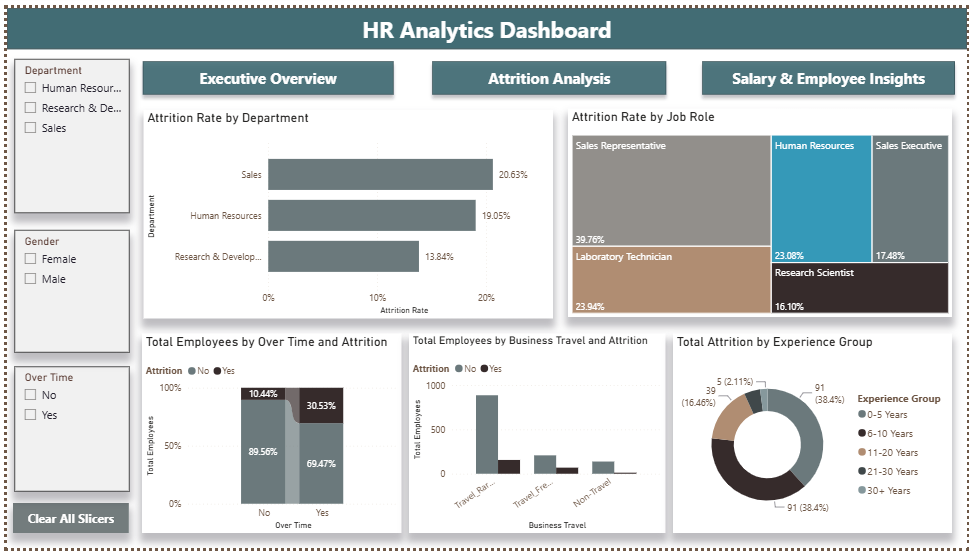

What the dashboard file says about the page in this screenshot:
{"tool":"powerbi","page":{"name":"Attrition Analysis","canvas":[1280,720],"ordinal":1},"visuals":[{"type":"shape","box":[0,0,1280,55],"z":0},{"type":"actionButton","box":[557.5,62.5,330,62.5],"z":1000},{"type":"actionButton","box":[172.5,62.5,352.5,62.5],"z":2000},{"type":"actionButton","box":[917.5,62.5,355,62.5],"z":3000},{"type":"actionButton","box":[8.9,660,154.4,40],"z":4000},{"type":"clusteredBarChart","title":"Attrition Rate by Department","fields":{"Y":["public hr_data.Attrition Rate"],"Category":["public hr_data.department"]},"box":[182,136,546,278],"z":5000},{"type":"treemap","title":"Attrition Rate by Job Role","fields":{"Group":["public hr_data.job_role"],"Values":["public hr_data.Attrition Rate"]},"box":[748,134,512,278],"z":6000},{"type":"hundredPercentStackedColumnChart","title":"Total Employees by Over Time and Attrition","fields":{"Y":["public hr_data.Total Employees"],"Category":["public hr_data.over_time"],"Series":["public hr_data.attrition"]},"box":[180,434,346,266],"z":7000},{"type":"clusteredColumnChart","title":"Total Employees by Business Travel and Attrition","fields":{"Category":["public hr_data.business_travel"],"Y":["public hr_data.Total Employees"],"Series":["public hr_data.attrition"]},"box":[536,434,342,266],"z":8000},{"type":"donutChart","fields":{"Y":["public hr_data.Total Attrition"],"Category":["public hr_data.Experience Group"]},"box":[888,434,372,266],"z":9000},{"type":"slicer","fields":{"Values":["public hr_data.department"]},"box":[10,68.3,153.3,205],"z":10000},{"type":"slicer","fields":{"Values":["public hr_data.over_time"]},"box":[10,478.3,153.3,166.7],"z":11000},{"type":"slicer","fields":{"Values":["public hr_data.gender"]},"box":[10,295,153.3,163.3],"z":12000}]}

Visuals, with their boxes in screenshot pixels (x1, y1, x2, y2), scaled from the page's 1280x720 canvas onto the 970x555 screenshot:
shape: detection(0, 0, 969, 42)
actionButton: detection(422, 48, 673, 96)
actionButton: detection(131, 48, 398, 96)
actionButton: detection(695, 48, 964, 96)
actionButton: detection(7, 509, 124, 540)
"Attrition Rate by Department" clusteredBarChart: detection(138, 105, 552, 319)
"Attrition Rate by Job Role" treemap: detection(567, 103, 955, 318)
"Total Employees by Over Time and Attrition" hundredPercentStackedColumnChart: detection(136, 335, 399, 540)
"Total Employees by Business Travel and Attrition" clusteredColumnChart: detection(406, 335, 665, 540)
donutChart - public hr_data.Total Attrition x public hr_data.Experience Group: detection(673, 335, 955, 540)
slicer - public hr_data.department: detection(8, 53, 124, 211)
slicer - public hr_data.over_time: detection(8, 369, 124, 497)
slicer - public hr_data.gender: detection(8, 227, 124, 353)
